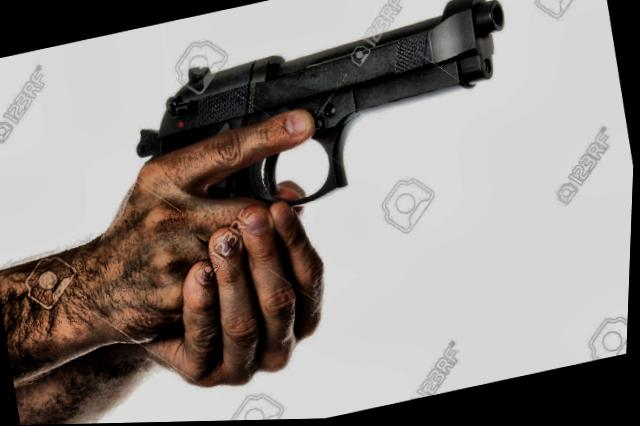pistol: (108, 0, 533, 250)
